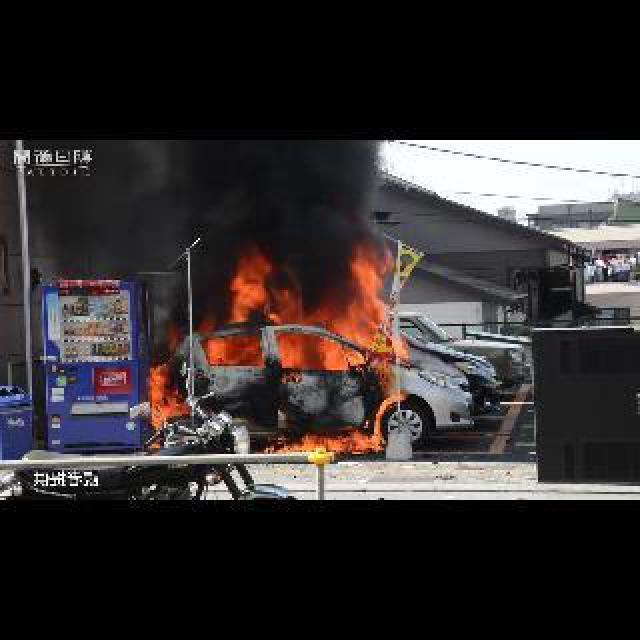Fire: (140, 254, 414, 464)
Smoke: (16, 140, 398, 302)
